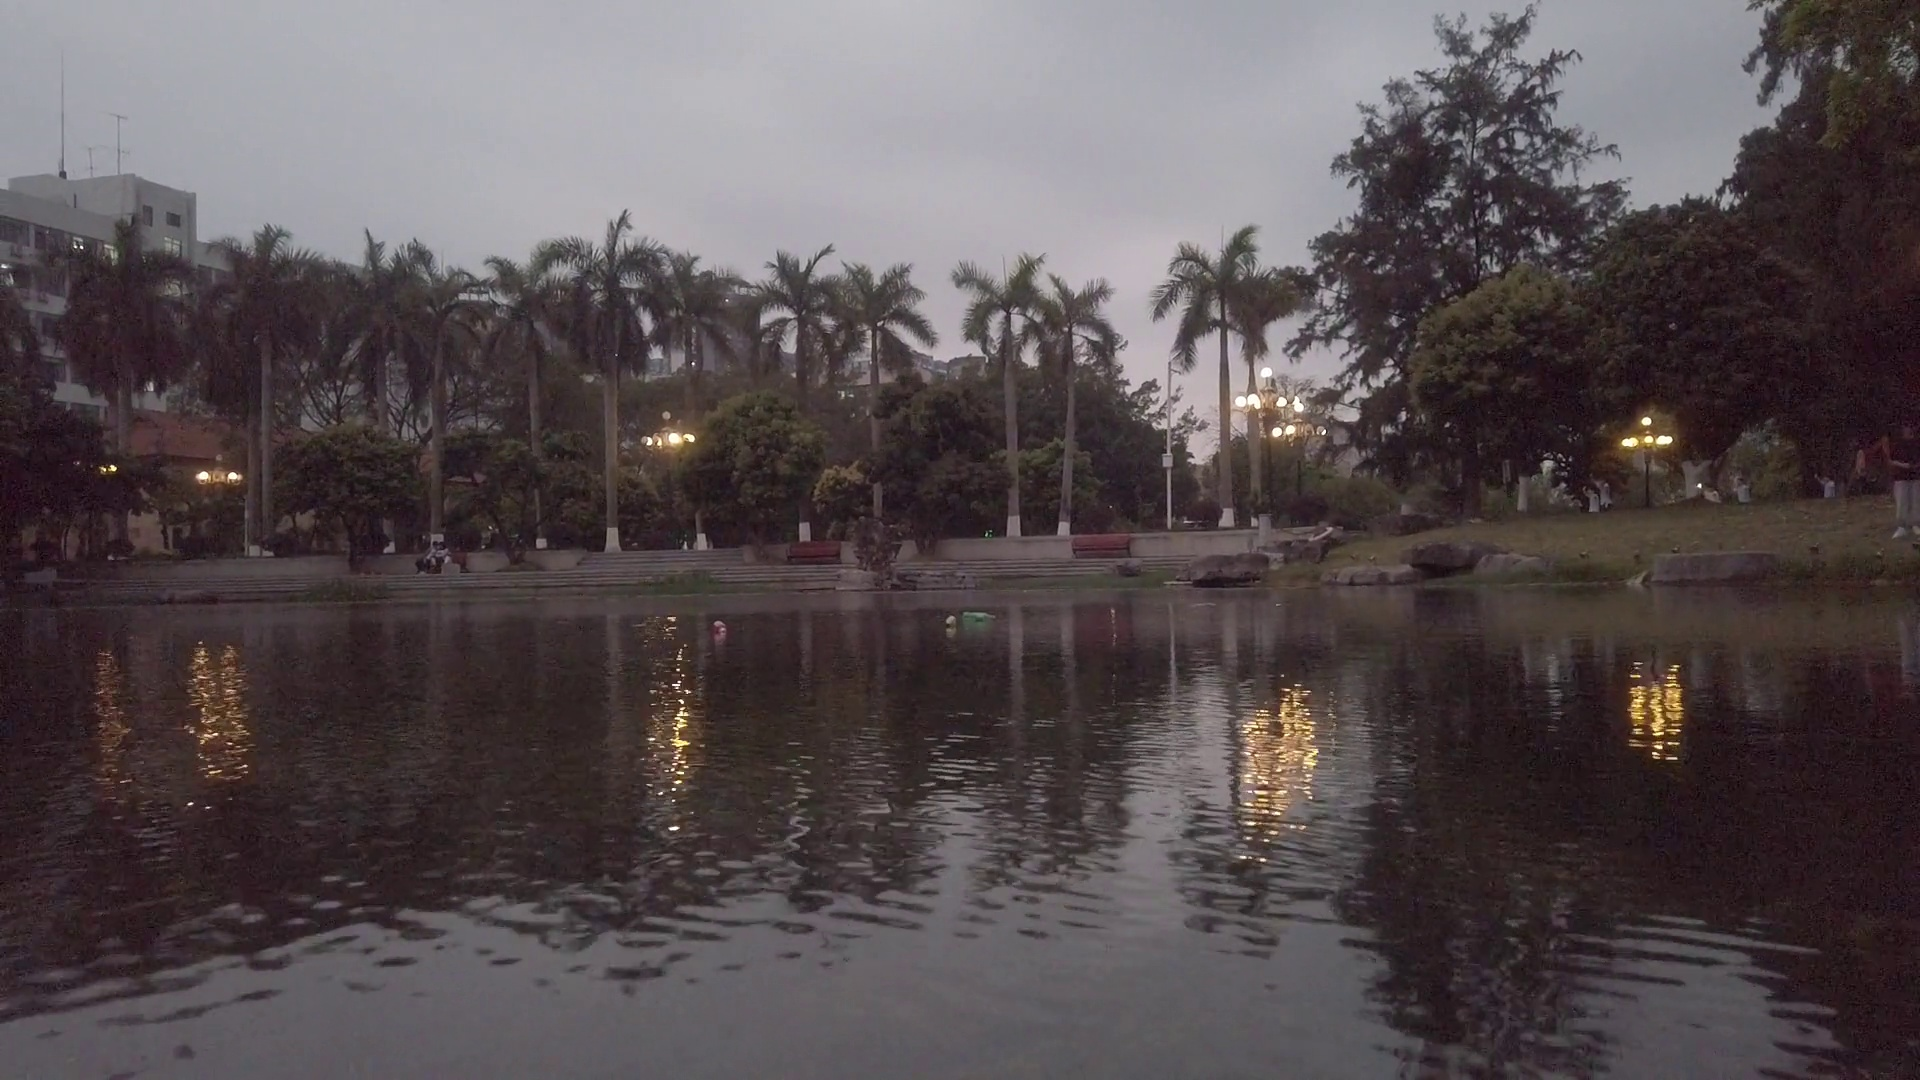bottle: (961, 609, 996, 622), (713, 620, 727, 634), (945, 615, 956, 629)
